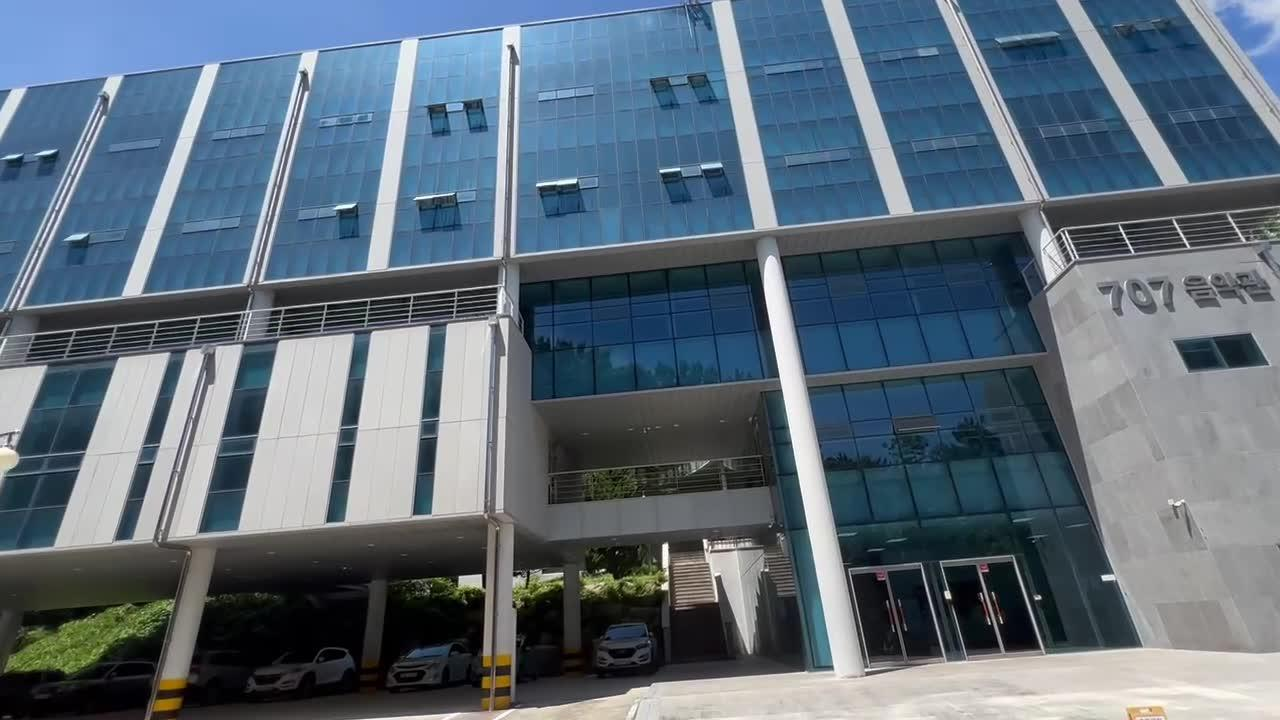building: (0, 19, 1280, 539)
